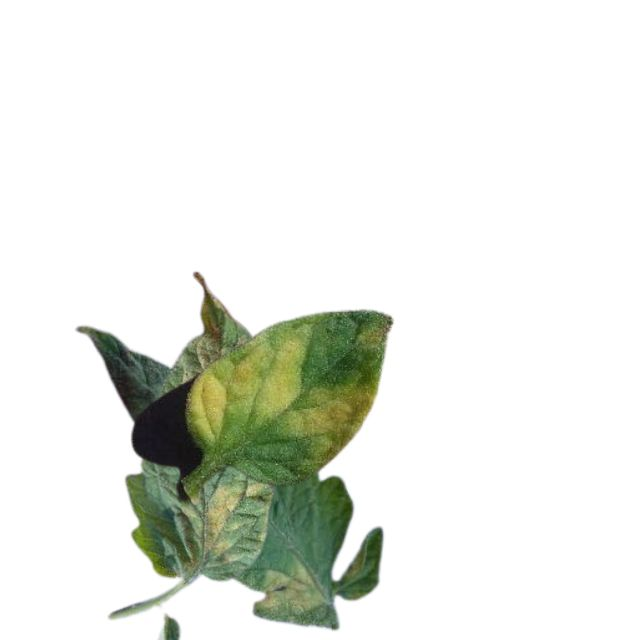Leaf_Mold: (183, 321, 390, 475), (183, 472, 271, 572), (261, 562, 325, 617)
